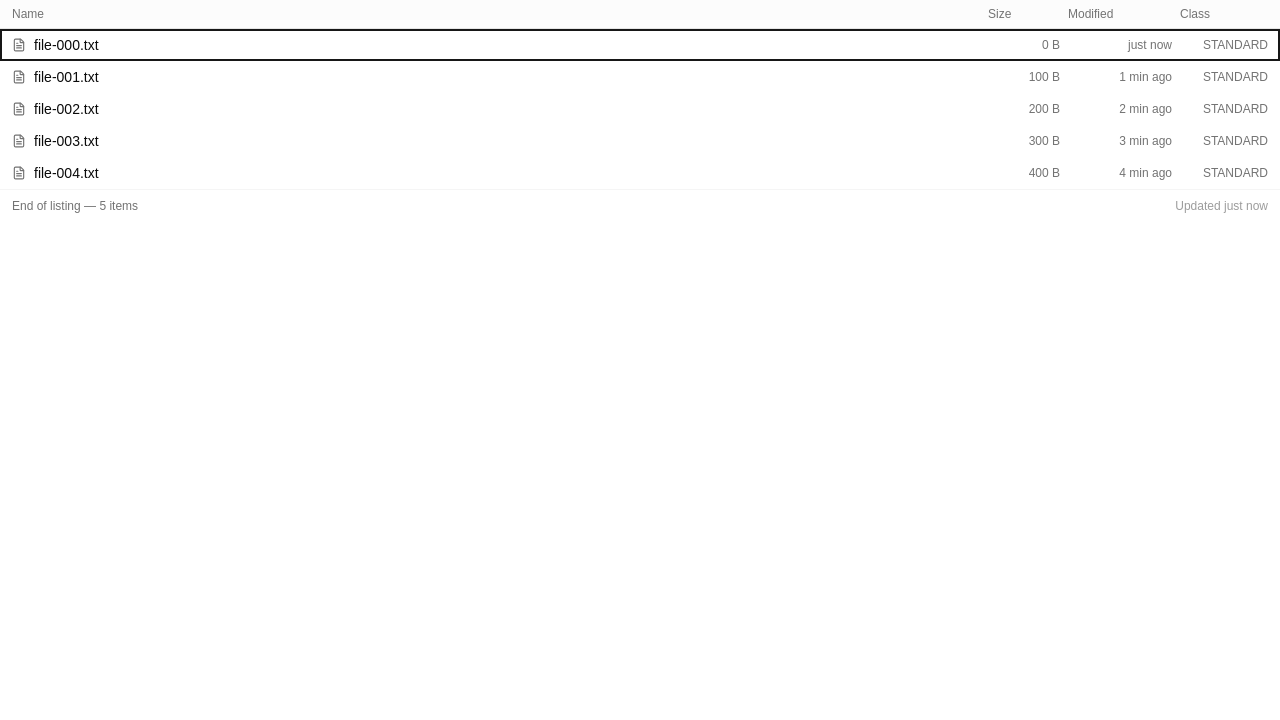
Test: Discoverability — selection-details Inspect link › Inspect link is visible when rows are selected
Wait for rows to render then click one to select it.
Click the row with test id "entry-row-0": (640, 45) [0,29,1279,61]
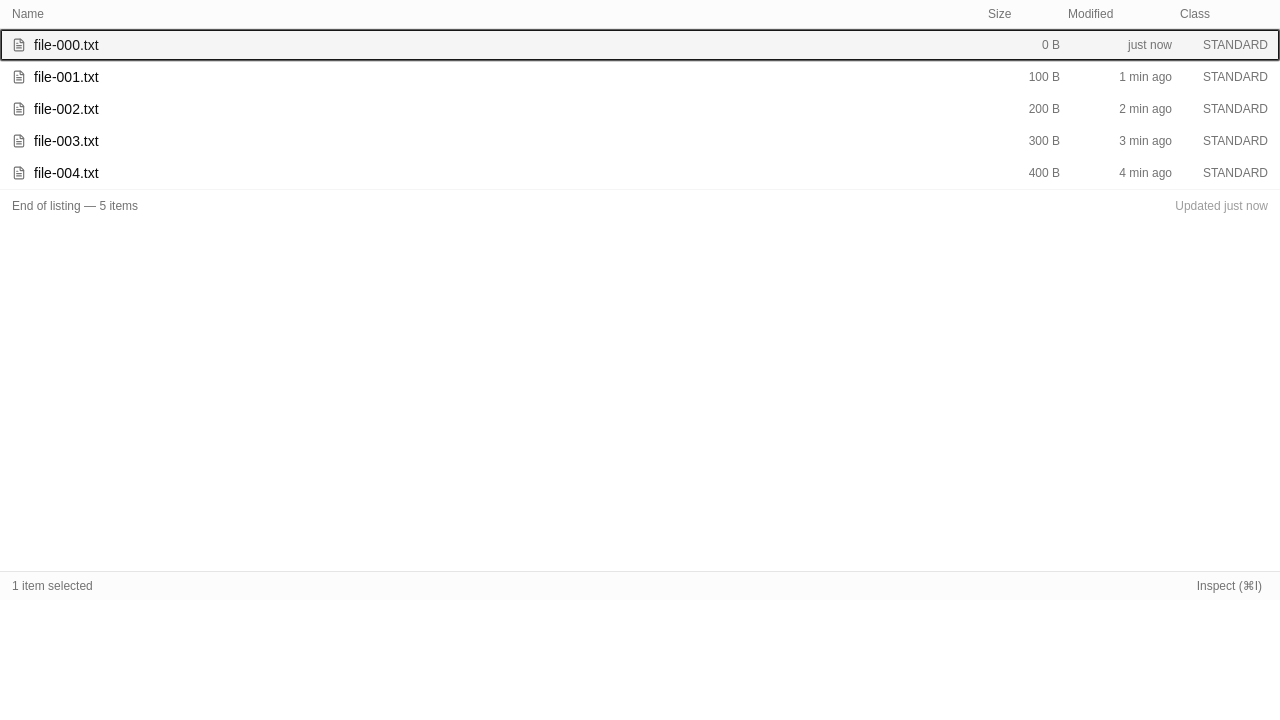
Expected: the button with test id "selection-inspect-link" is shown, [1191,576,1268,596]
